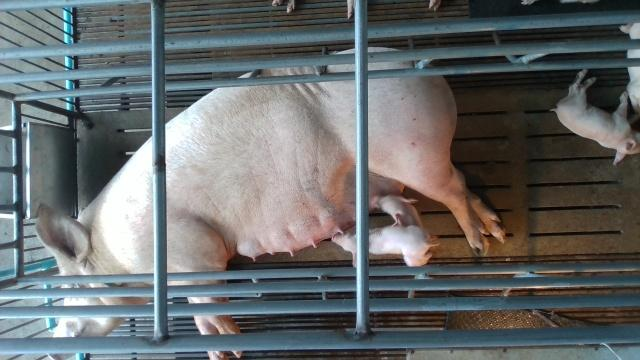piglet: (552, 67, 640, 163), (336, 225, 438, 266), (619, 22, 640, 123), (375, 195, 424, 225)
sow-sleep-lactate: (36, 47, 504, 360)
